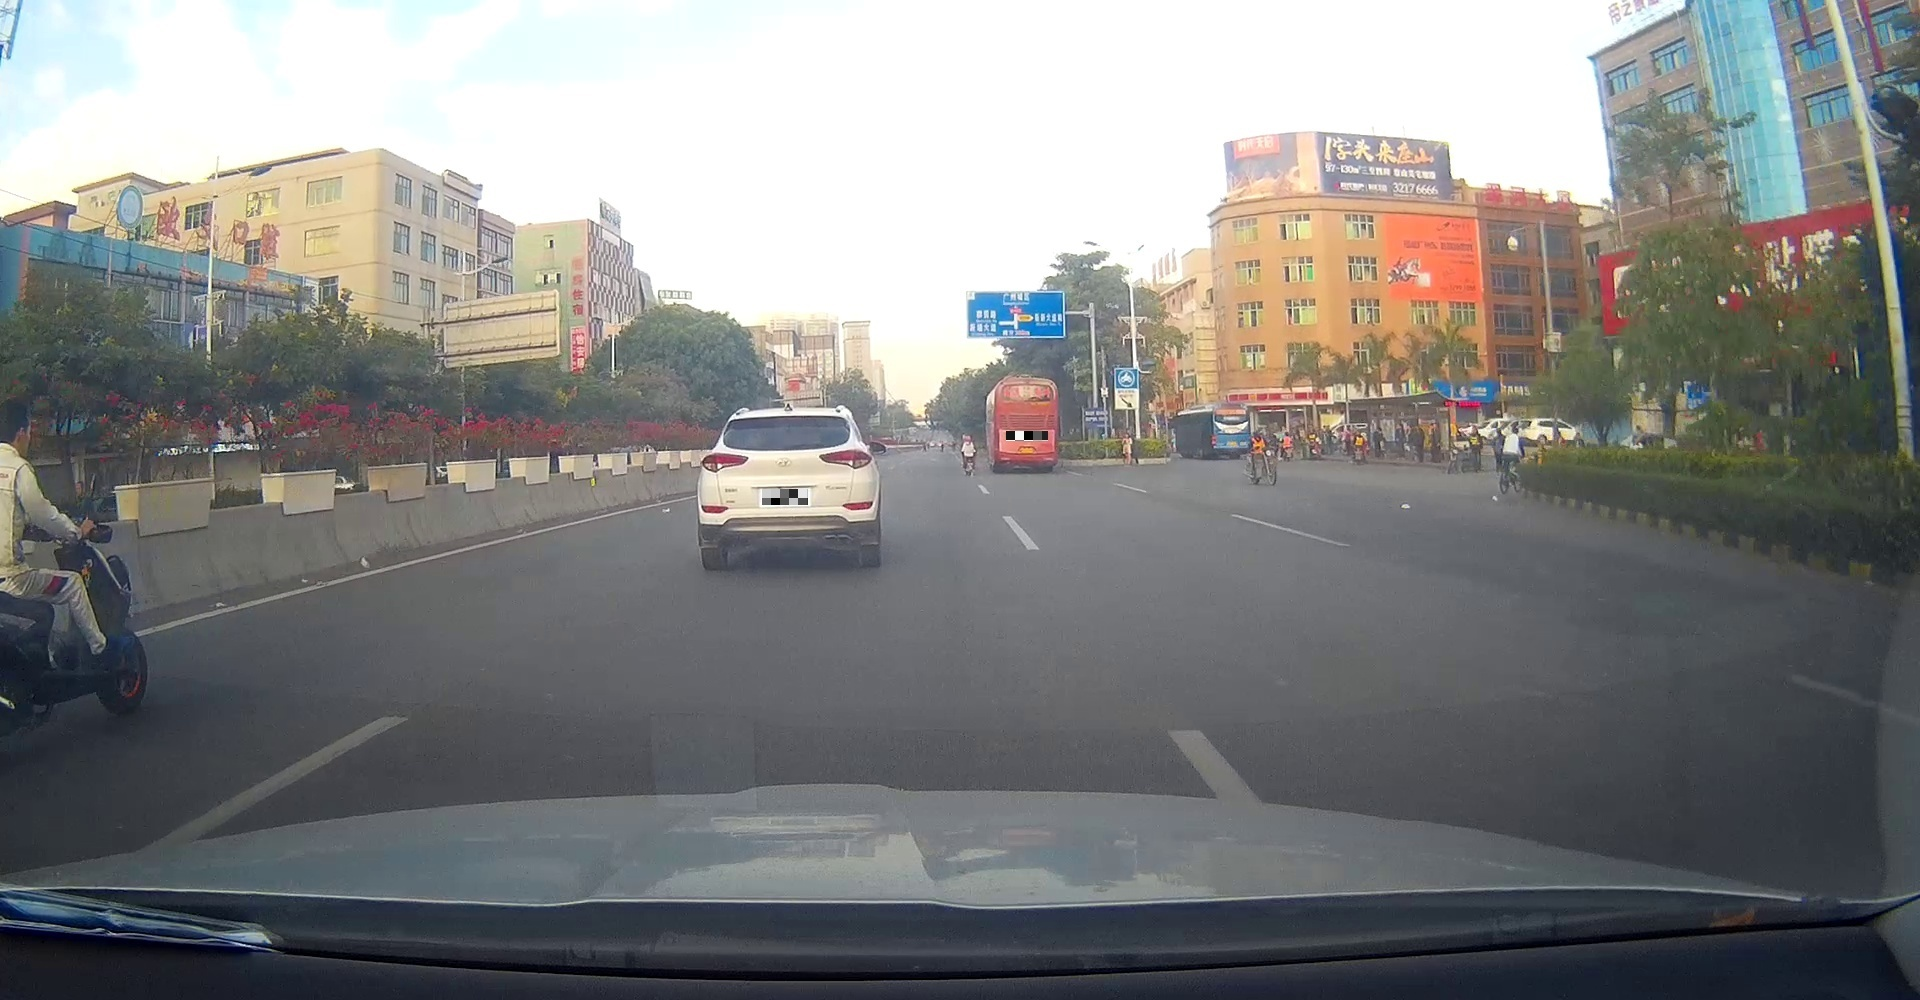L_light: (701, 453, 749, 473), (994, 431, 1001, 451)
R_light: (819, 448, 872, 470), (1054, 431, 1058, 451)
T_light: (778, 416, 803, 421), (1023, 397, 1035, 401)
day-no: (697, 409, 880, 571), (993, 378, 1058, 472)
plate_1: (762, 489, 808, 505)
plate_2: (1006, 431, 1048, 442)
